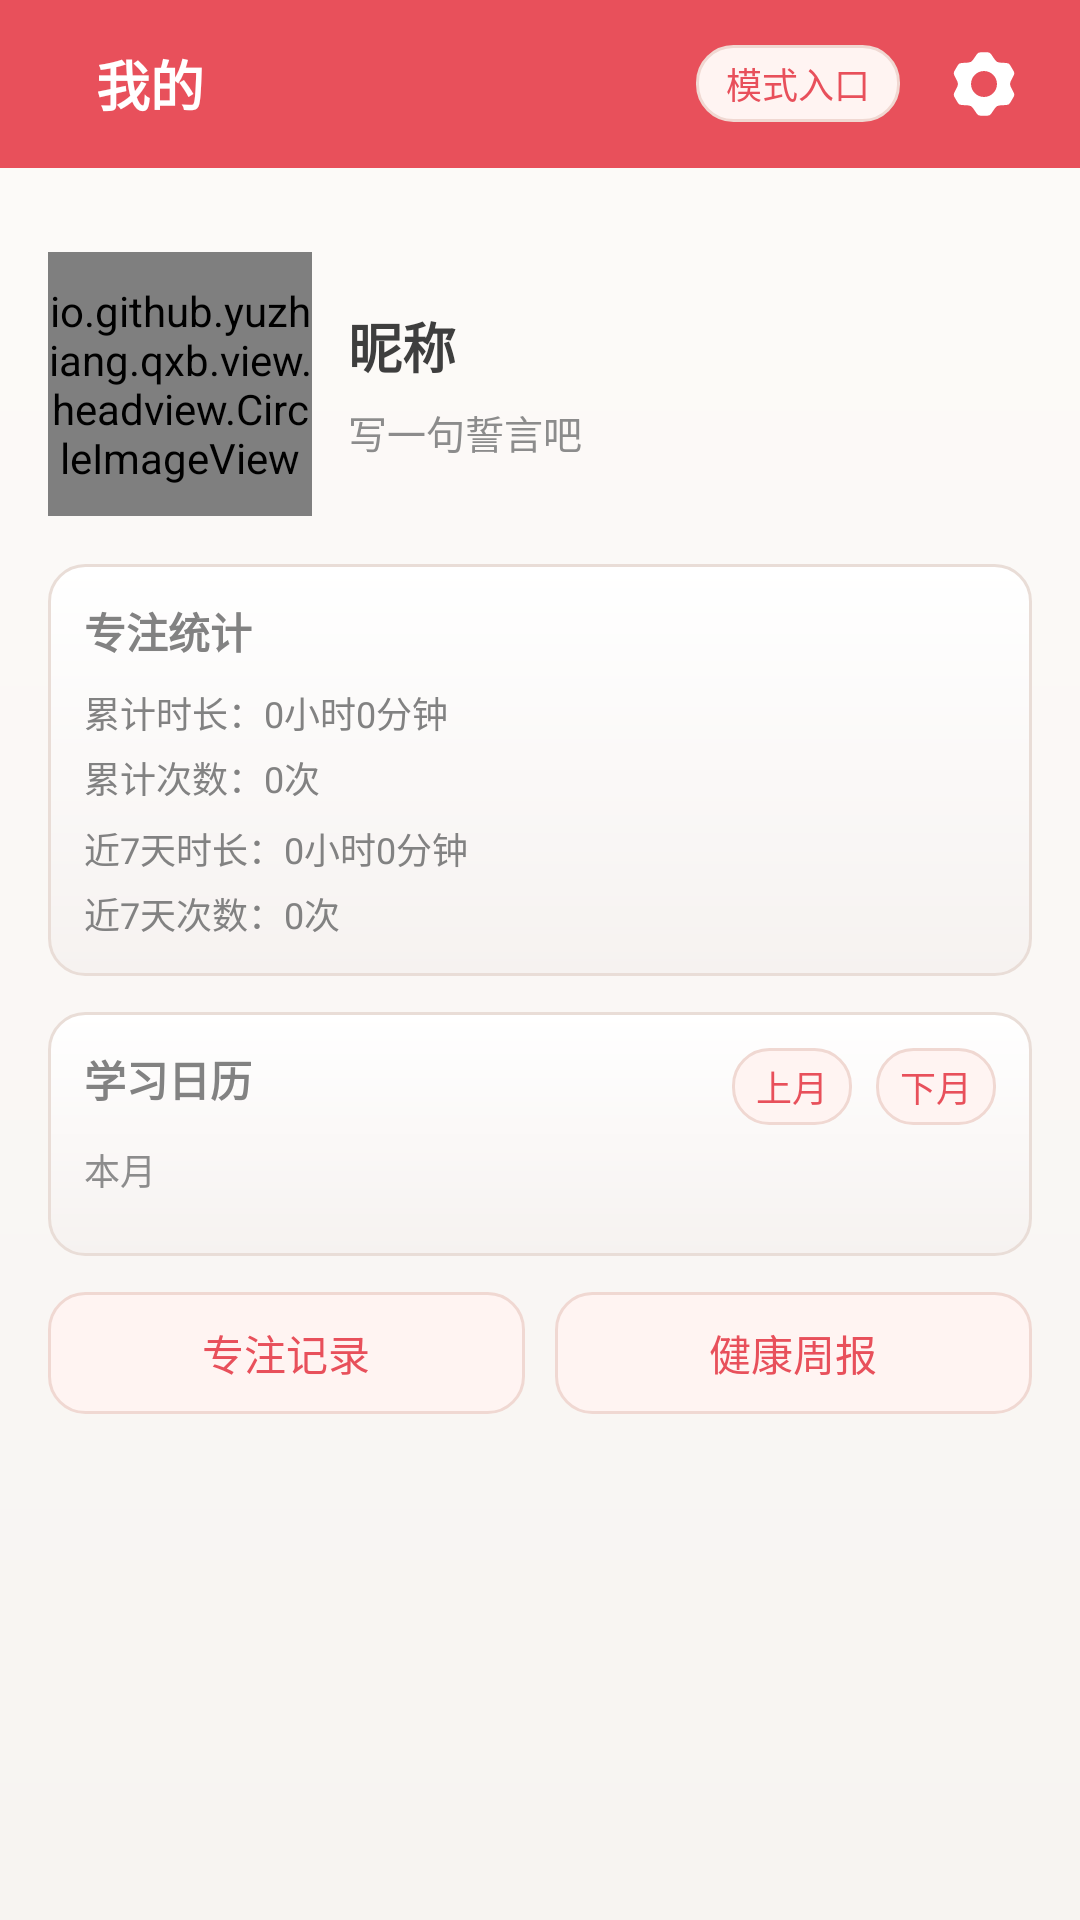

Icon bounding boxes for this 1080px×1920px phone screenshot, format (x1, y1, x2, y2):
设置: (953, 52, 1015, 116)
